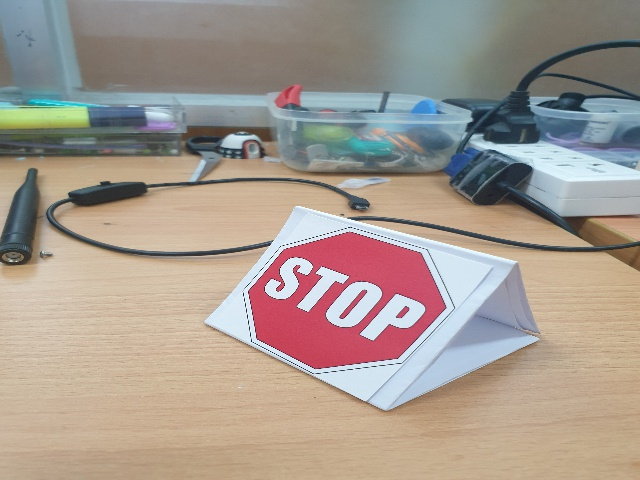Stop: (245, 227, 456, 379)
